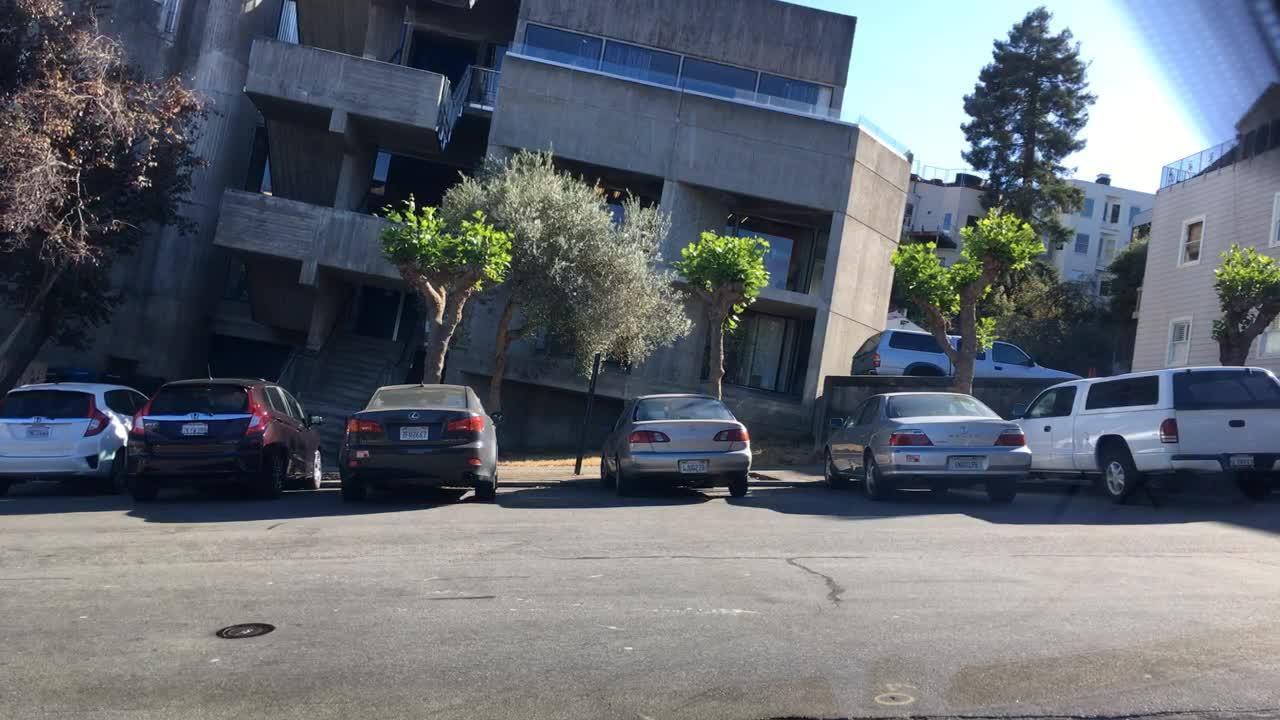Honda: (187, 410, 205, 425)
Toyota: (29, 413, 49, 428)
lexus: (406, 406, 427, 424)
